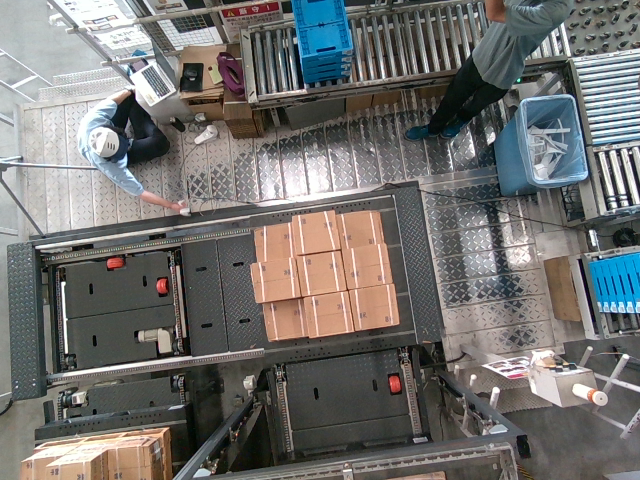box: (289, 209, 341, 253), (249, 257, 301, 301), (293, 250, 345, 294), (338, 243, 390, 287), (303, 293, 355, 337), (346, 287, 398, 331)
